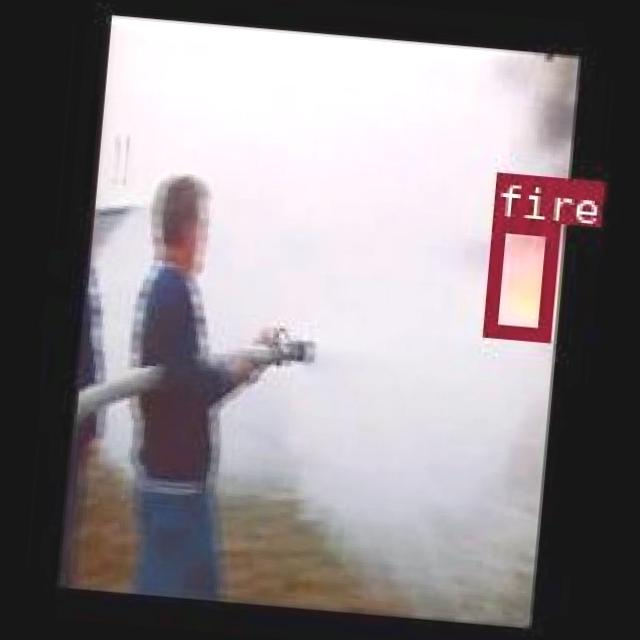fire: (480, 216, 558, 338)
